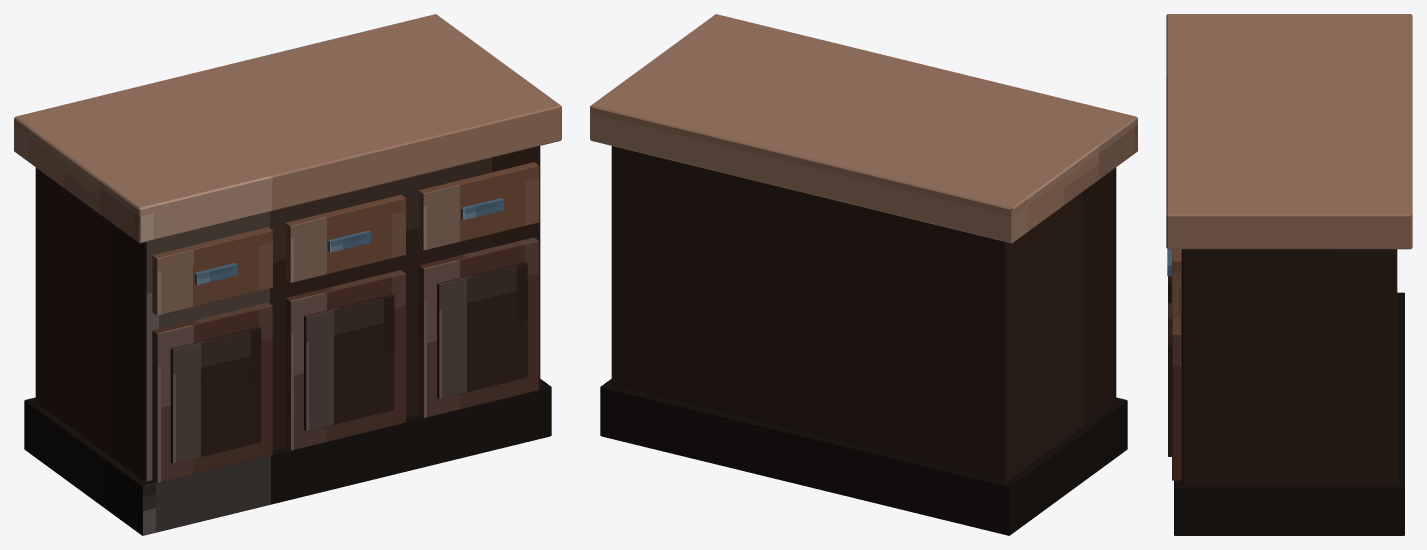
The model's file is wooden_dresser_sideboard_walnut.glb.
3 views of the same model, side by side, from view 1: azimuth 30°, elevation 25°; view 2: azimuth 150°, elevation 25°; view 3: azimuth 270°, elevation 25° (orthographic). The views are drawn at different scales.
Visible parts, largest first — view 1: DresserTop, DresserBody, DresserPlinth, DoorInset_1, DoorInset_3, DoorInset_2, LowerDoor_3, LowerDoor_1, LowerDoor_2, TopDrawer_3, TopDrawer_1, TopDrawer_2; view 2: DresserBody, DresserTop, DresserPlinth; view 3: DresserTop, DresserBody, DresserPlinth, LowerDoor_3, TopDrawer_3, DoorInset_3.
Boxes of the visible parts, bbox=[...] form: DresserTop: bbox=[14, 14, 561, 243]; DresserBody: bbox=[35, 146, 540, 486]; DresserPlinth: bbox=[24, 379, 551, 535]; DoorInset_1: bbox=[170, 327, 261, 463]; DoorInset_3: bbox=[437, 262, 527, 398]; DoorInset_2: bbox=[304, 294, 394, 431]; LowerDoor_3: bbox=[418, 237, 538, 418]; LowerDoor_1: bbox=[152, 302, 272, 483]; LowerDoor_2: bbox=[285, 270, 405, 450]; TopDrawer_3: bbox=[418, 162, 539, 250]; TopDrawer_1: bbox=[152, 227, 272, 315]; TopDrawer_2: bbox=[285, 194, 405, 282]; DresserBody: bbox=[611, 146, 1116, 481]; DresserTop: bbox=[590, 14, 1137, 243]; DresserPlinth: bbox=[600, 379, 1127, 535]; DresserTop: bbox=[1166, 14, 1412, 249]; DresserBody: bbox=[1181, 249, 1397, 484]; DresserPlinth: bbox=[1174, 292, 1404, 535]; LowerDoor_3: bbox=[1172, 316, 1181, 480]; TopDrawer_3: bbox=[1172, 249, 1181, 316]; DoorInset_3: bbox=[1168, 303, 1171, 456].
Size of the model in its own units: 1.24 by 0.93 by 0.64.
1 material, 1 textured.
